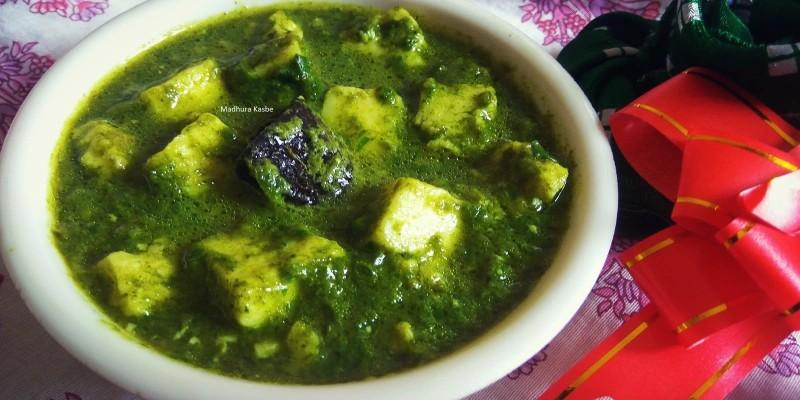PalakPaneer: (53, 3, 570, 379)
